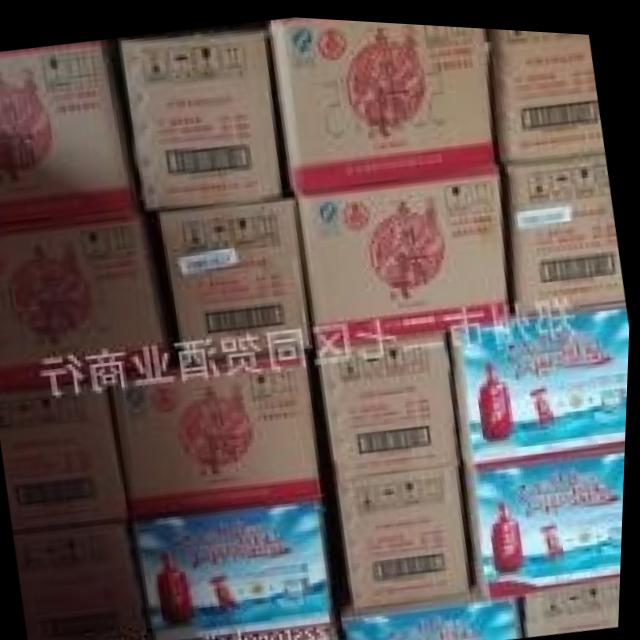box: (270, 14, 499, 193), (296, 163, 510, 346), (112, 350, 328, 520), (0, 218, 172, 390), (450, 300, 632, 462), (121, 29, 287, 206), (138, 498, 338, 640), (0, 41, 140, 231), (161, 196, 313, 365), (465, 441, 628, 594), (0, 376, 132, 535), (321, 329, 464, 475), (505, 147, 628, 311), (340, 459, 476, 605), (18, 523, 150, 640), (490, 23, 603, 157), (346, 591, 524, 640), (529, 570, 624, 627), (211, 625, 344, 640)
